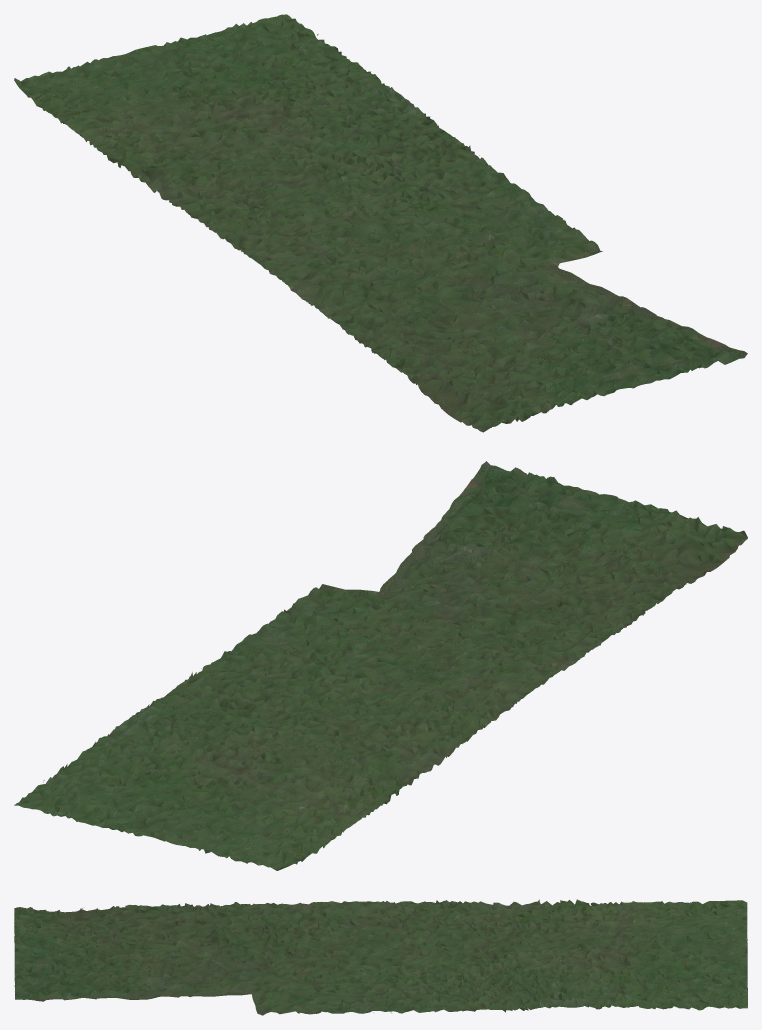
File: grass.lod3.glb
The picture shows the model from 3 angles, top to bottom: view 1: azimuth 30°, elevation 25°; view 2: azimuth 150°, elevation 25°; view 3: azimuth 270°, elevation 25°; orthographic projection. The views are drawn at different scales.
Visible parts, largest first — view 1: Model_material0_0; view 2: Model_material0_0; view 3: Model_material0_0.
Part boxes in pixels (bbox=[...]): Model_material0_0: bbox=[14, 14, 747, 432]; Model_material0_0: bbox=[14, 461, 747, 870]; Model_material0_0: bbox=[14, 899, 747, 1015].
Bounding box in the file's own units: 94.12 × 6.69 × 274.
Materials: 1 (1 with a texture image).
